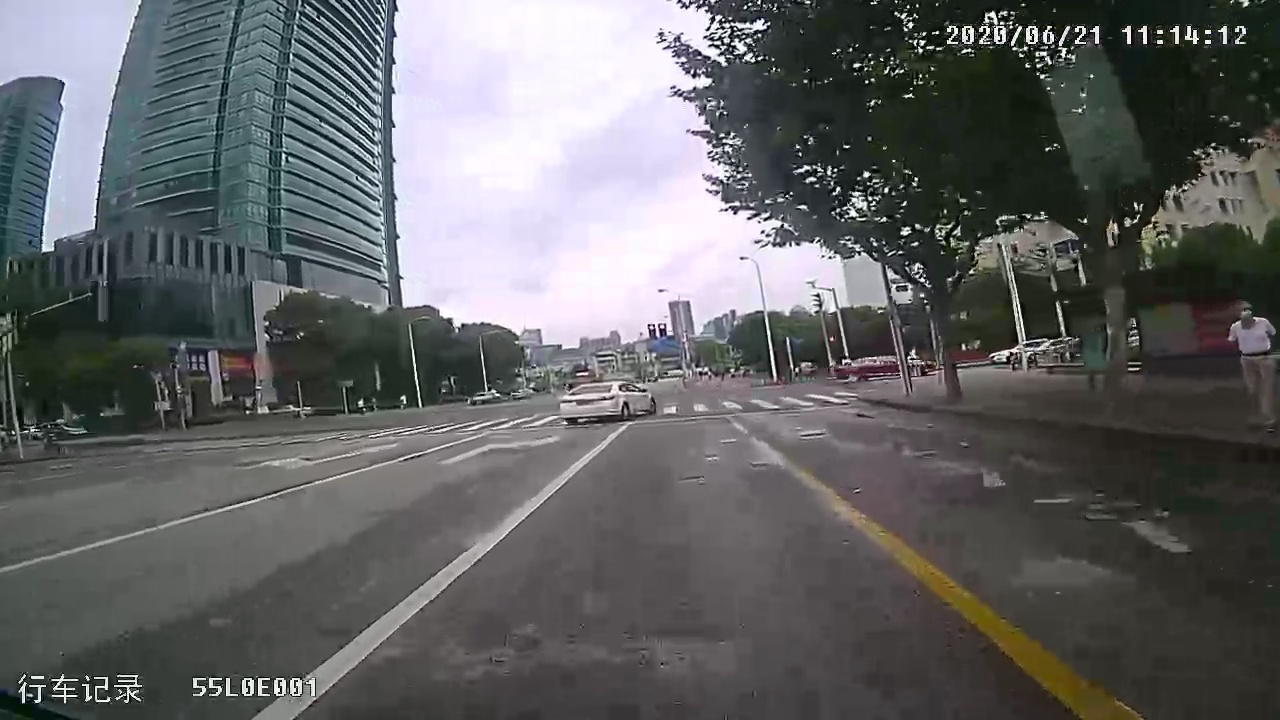crosswalk: (432, 400, 815, 430)
